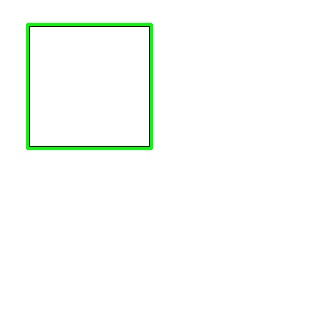line_segment: (26, 23, 153, 150)
